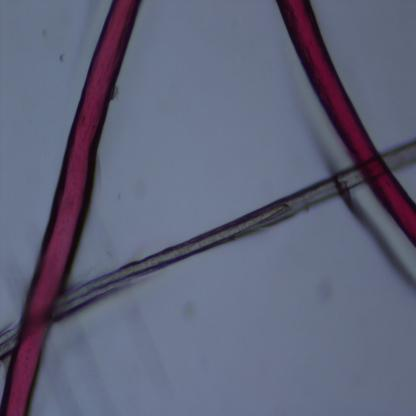Microfibre: (0, 141, 416, 359), (0, 0, 141, 416), (275, 0, 416, 247)
